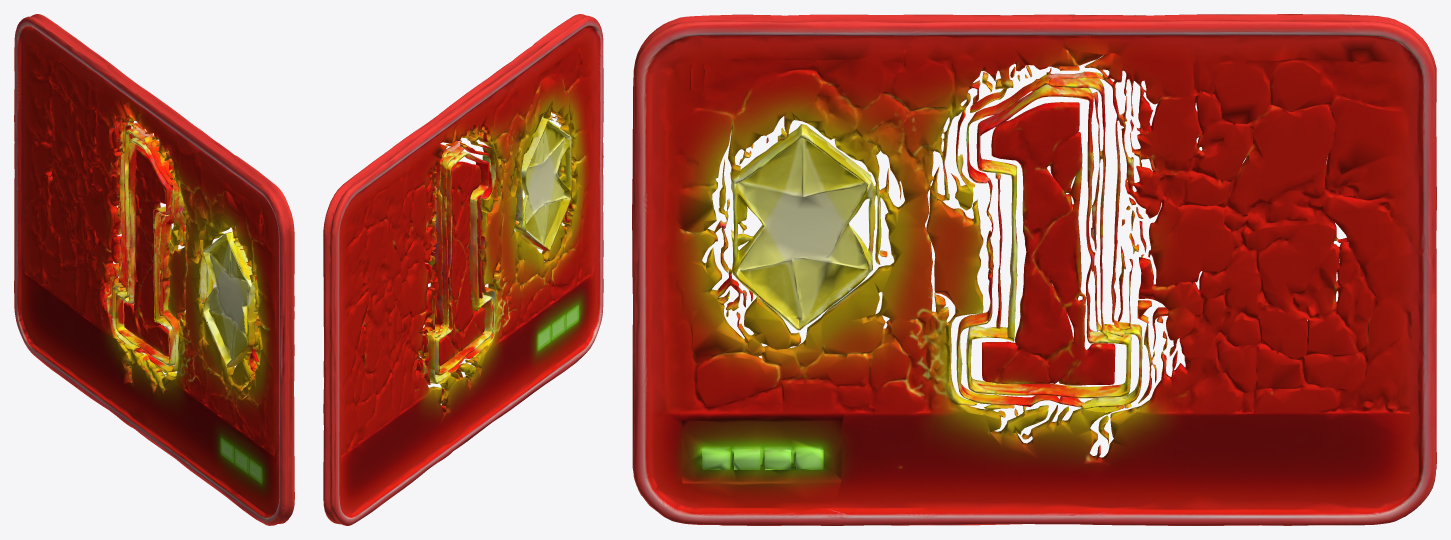
Rendered from tarjeta1.fbx.
3 views of the same model, side by side, from view 1: azimuth 30°, elevation 25°; view 2: azimuth 150°, elevation 25°; view 3: azimuth 270°, elevation 25° (orthographic). The views are drawn at different scales.
Parts seen in each view (by area): view 1: tripo_node_315cda57; view 2: tripo_node_315cda57; view 3: tripo_node_315cda57.
Boxes of the visible parts, x1,y1,x2,y2 form: tripo_node_315cda57: (14,14,294,525); tripo_node_315cda57: (323,14,603,525); tripo_node_315cda57: (632,14,1436,525).
Size of the model in its own units: 0.0316 by 0.6926 by 0.9999.
Materials: 1 (1 with a texture image).
